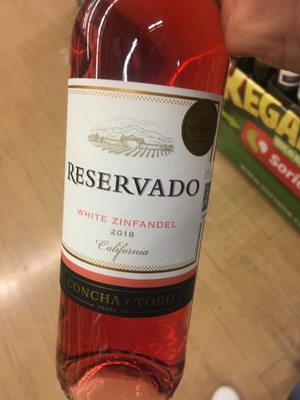reservado white zinfandel: (61, 10, 228, 400)
